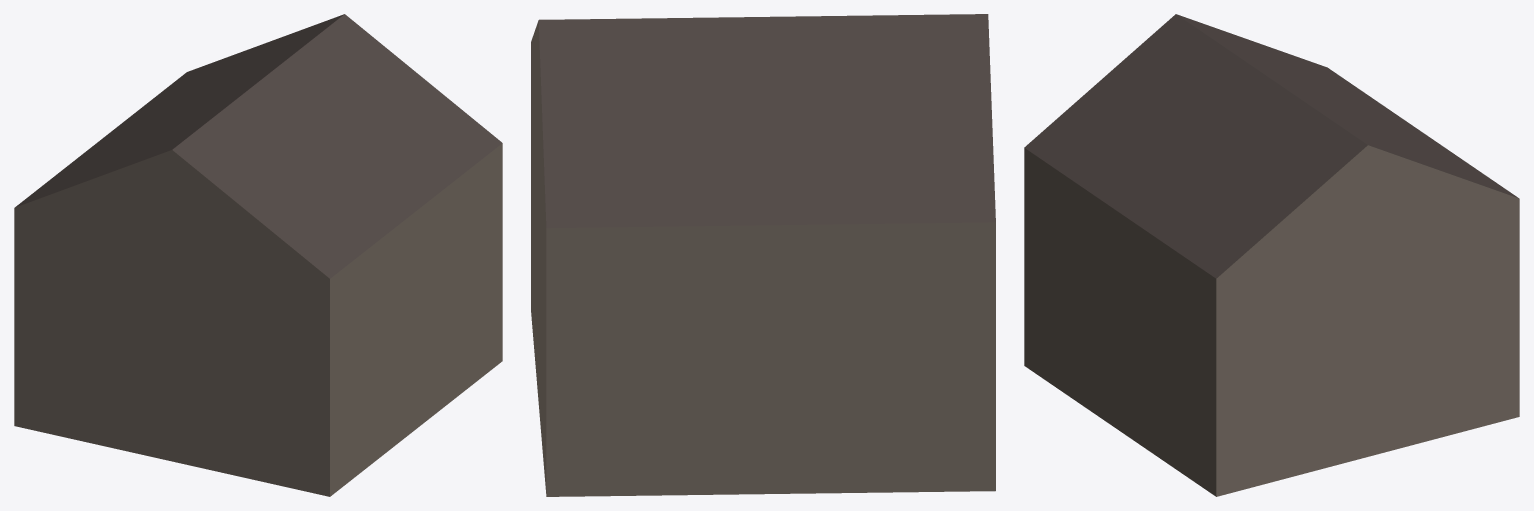
The picture shows the model from 3 angles, left to right: view 1: azimuth 30°, elevation 25°; view 2: azimuth 150°, elevation 25°; view 3: azimuth 270°, elevation 25°; orthographic projection. The views are drawn at different scales.
Visible parts, largest first — view 1: HP-w859424183; view 2: HP-w859424183; view 3: HP-w859424183.
Boxes of the visible parts, bbox=[...] form: HP-w859424183: bbox=[14, 14, 502, 496]; HP-w859424183: bbox=[531, 14, 995, 496]; HP-w859424183: bbox=[1024, 14, 1519, 496].
Bounding box in the file's own units: 12.46 × 8.57 × 12.35.
